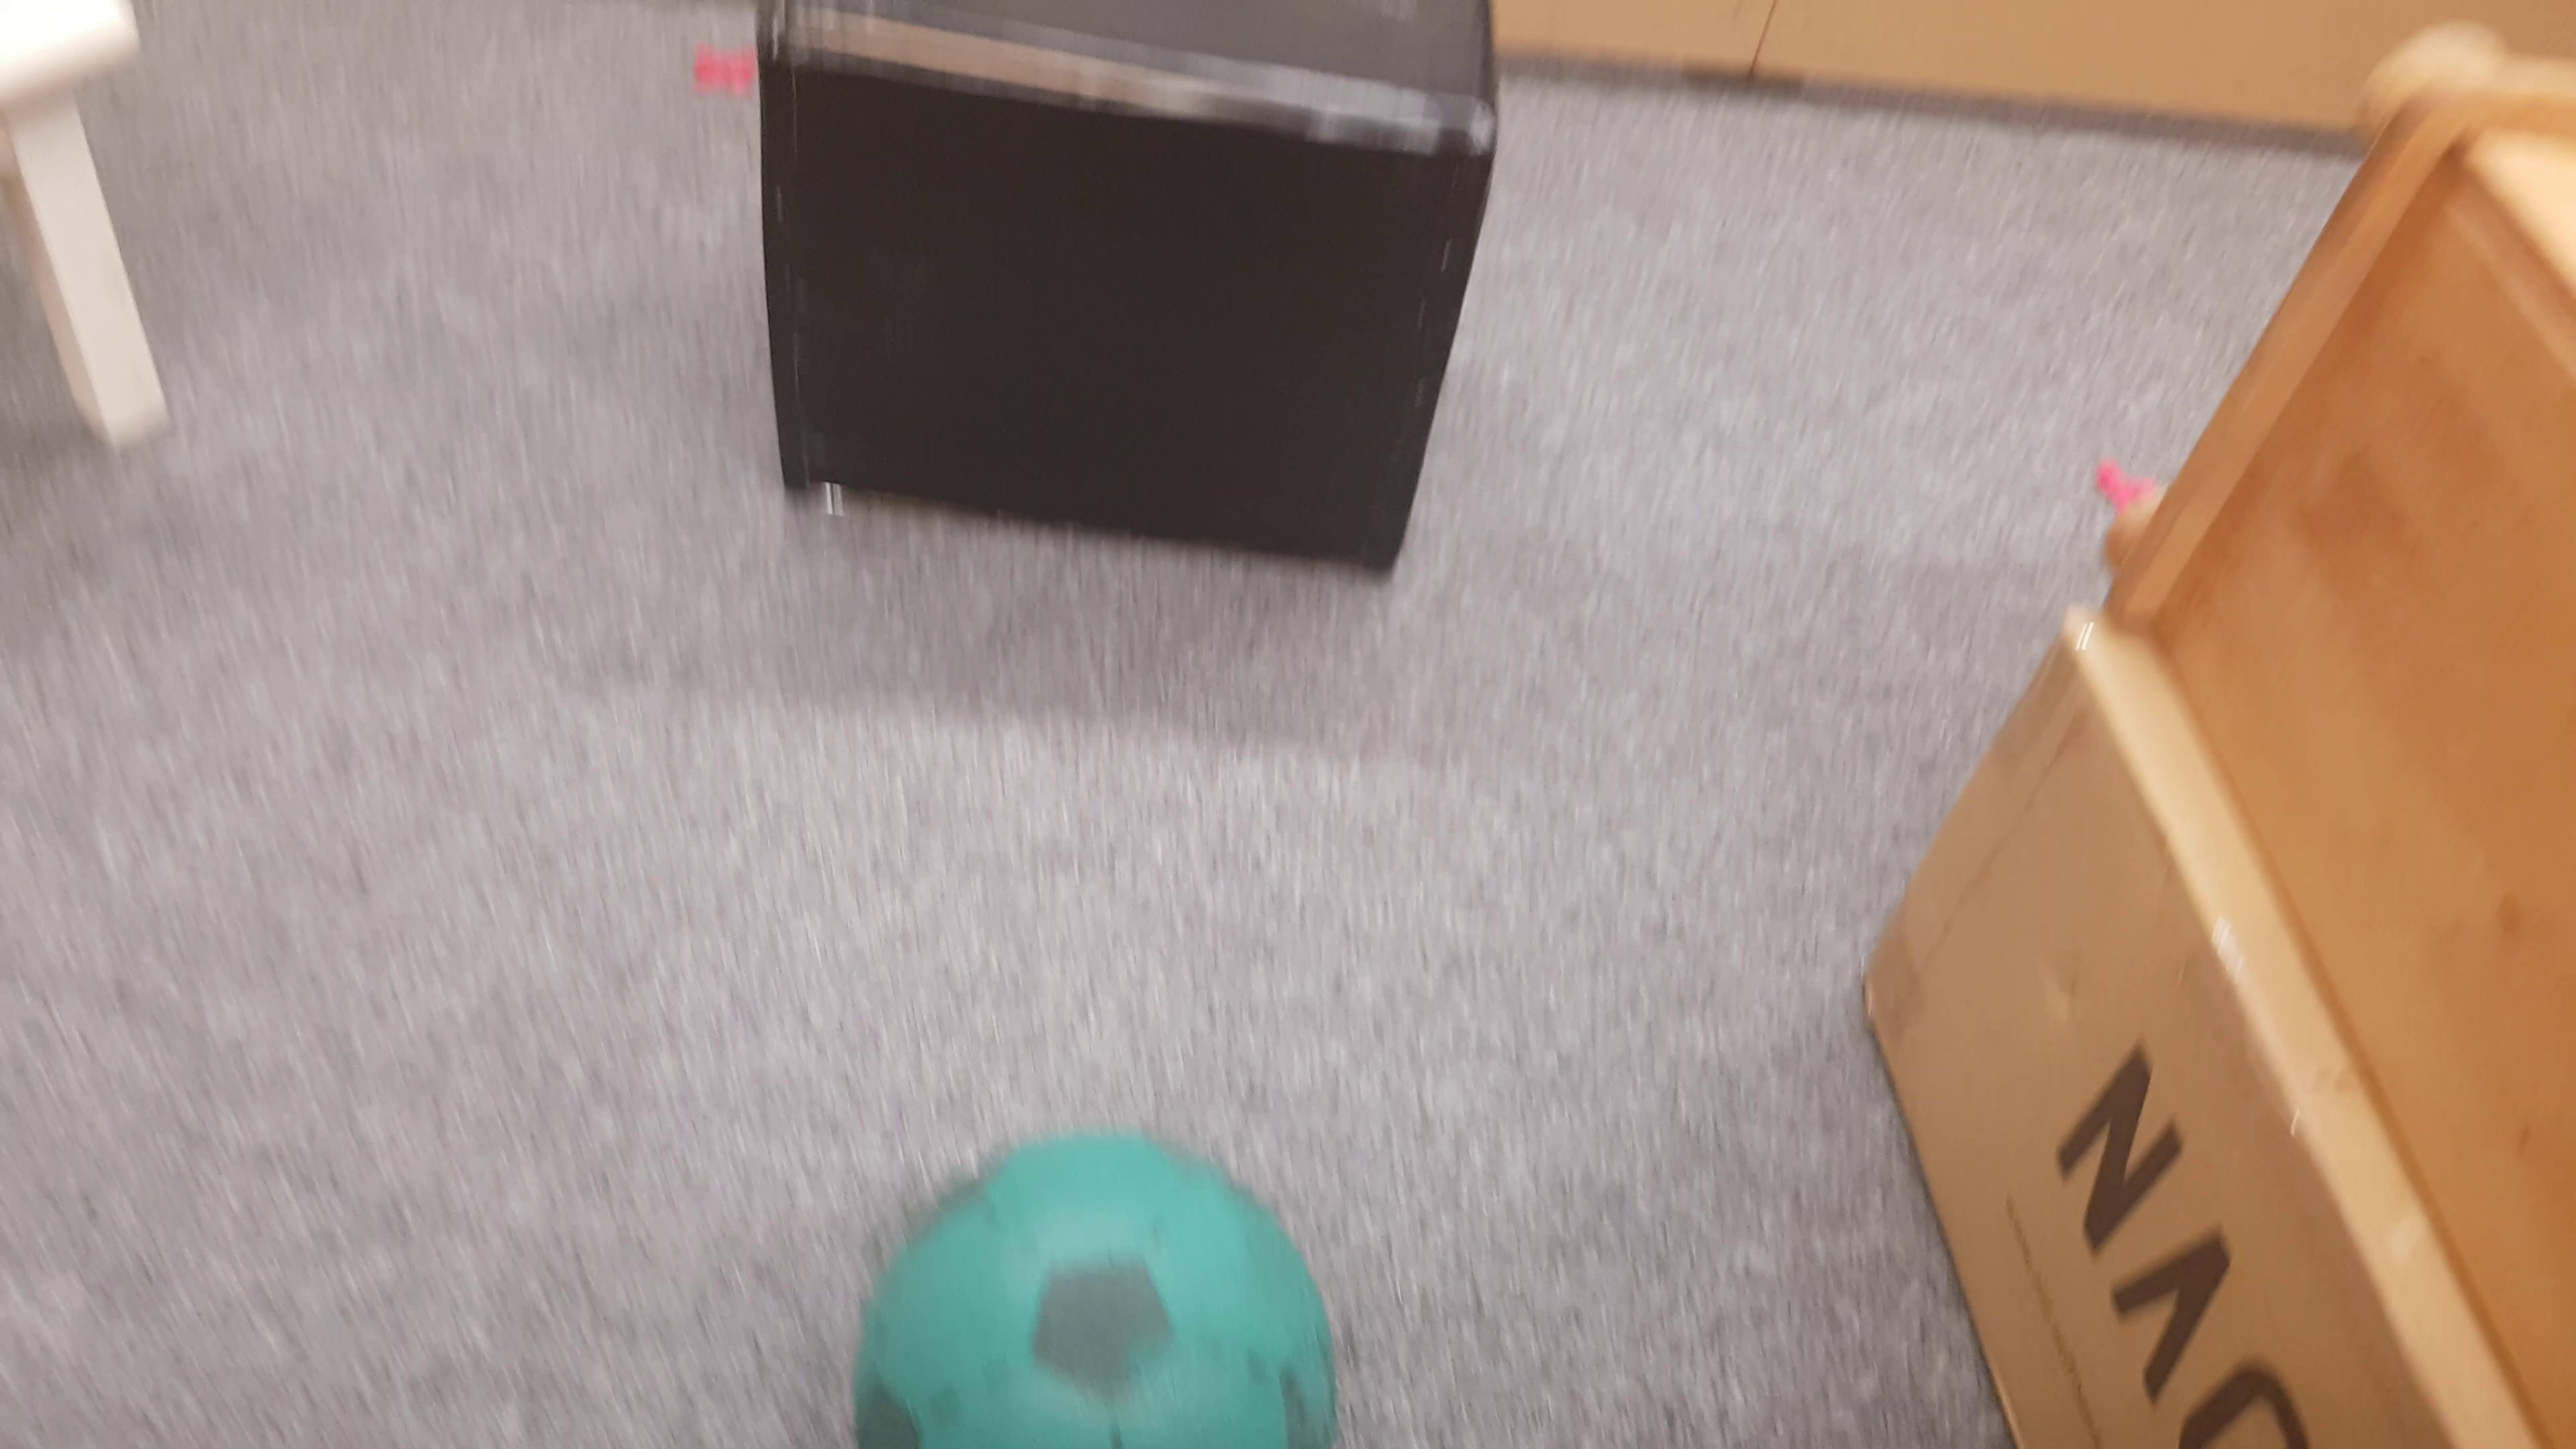kick: (860, 1136, 1336, 1449)
push: (747, 9, 1513, 575)
